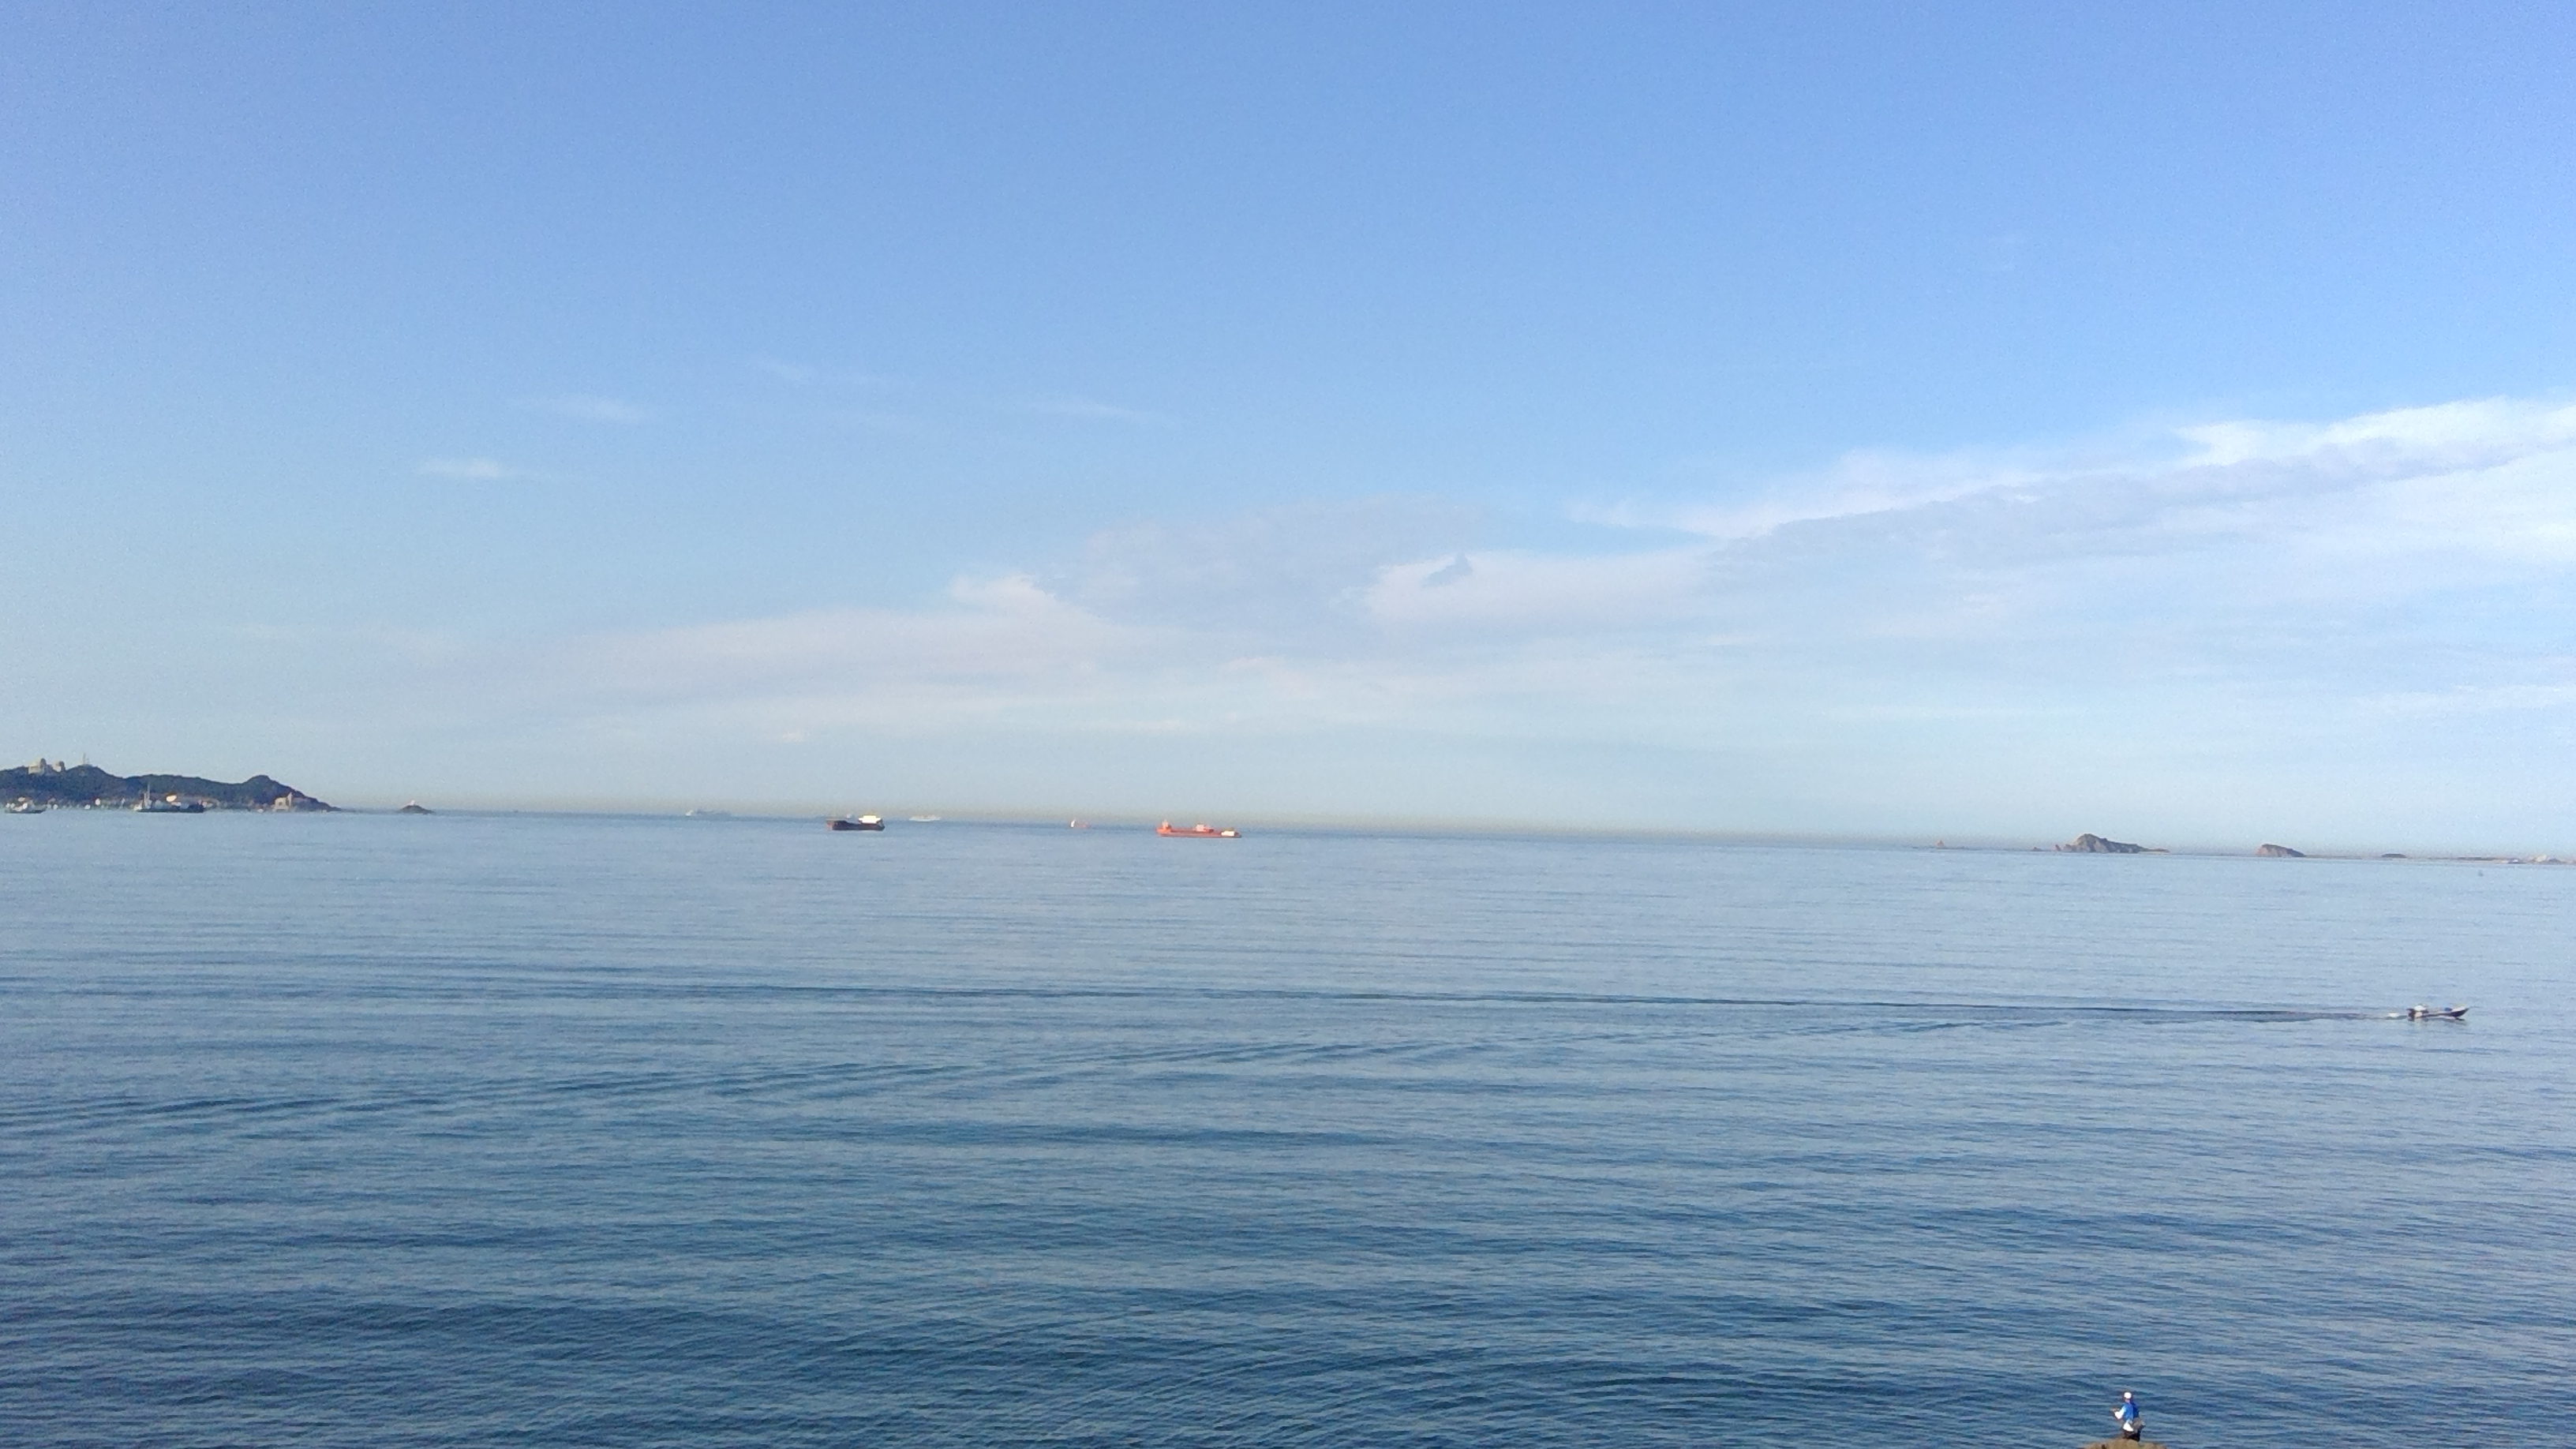boat: (2104, 1378, 2167, 1449), (2408, 998, 2472, 1037), (835, 803, 883, 842)
platform: (1148, 801, 1249, 844)
rock: (5, 754, 363, 833), (2066, 826, 2162, 876), (2256, 837, 2309, 876)
